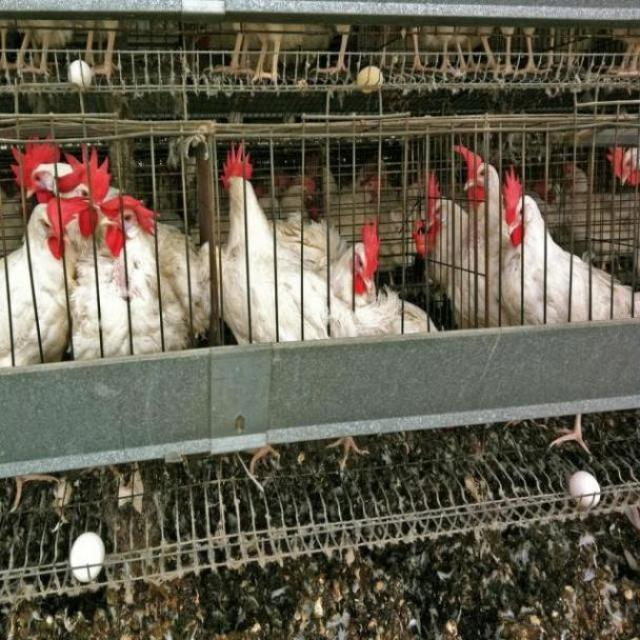Chicken: (484, 164, 640, 466), (64, 183, 157, 515), (0, 192, 80, 537), (102, 189, 227, 405), (217, 137, 332, 352), (327, 208, 386, 479), (446, 142, 516, 347), (560, 149, 639, 290), (49, 140, 134, 224), (423, 171, 470, 308), (321, 165, 394, 242), (11, 131, 78, 211), (275, 167, 323, 228), (599, 139, 640, 197)
